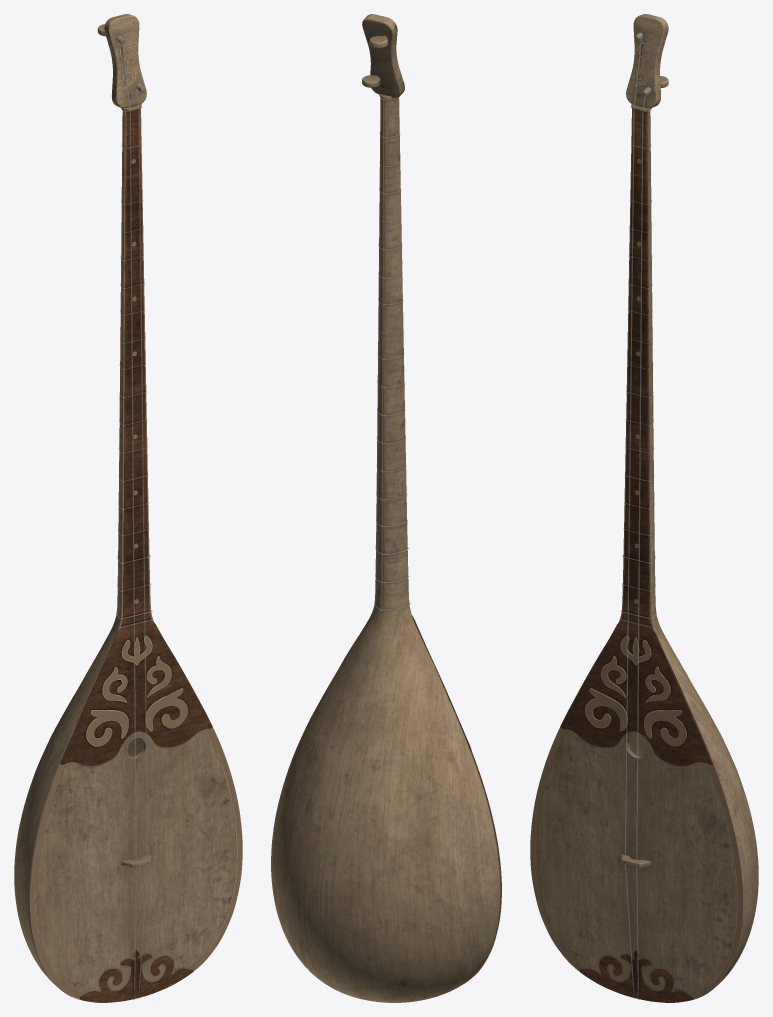
File: DOMBYRA_by_Sultan.fbx
3 views of the same model, side by side, from view 1: azimuth 30°, elevation 25°; view 2: azimuth 150°, elevation 25°; view 3: azimuth 330°, elevation 25° (orthographic).
Visible parts, largest first — view 1: korpus, ornament, korpus.001, RAMA, strun, bas, strunes; view 2: korpus, bas, strunes, RAMA; view 3: korpus, ornament, korpus.001, RAMA, strun, bas, strunes.
Boxes of the visible parts, x1,y1,x2,y2 form: korpus: (14, 108, 236, 994); ornament: (60, 39, 212, 1002); korpus.001: (121, 109, 151, 626); RAMA: (30, 634, 242, 1002); strun: (122, 44, 148, 999); bas: (104, 14, 146, 108); strunes: (116, 107, 152, 619); korpus: (271, 97, 500, 1002); bas: (362, 14, 404, 97); strunes: (374, 97, 410, 611); RAMA: (414, 619, 501, 978); korpus: (536, 108, 758, 994); ornament: (560, 41, 712, 1002); korpus.001: (621, 109, 651, 626); RAMA: (530, 634, 742, 1002); strun: (624, 38, 645, 999); bas: (626, 14, 668, 108); strunes: (620, 107, 656, 619).
Size of the model in its own units: 199 by 869 by 108.
